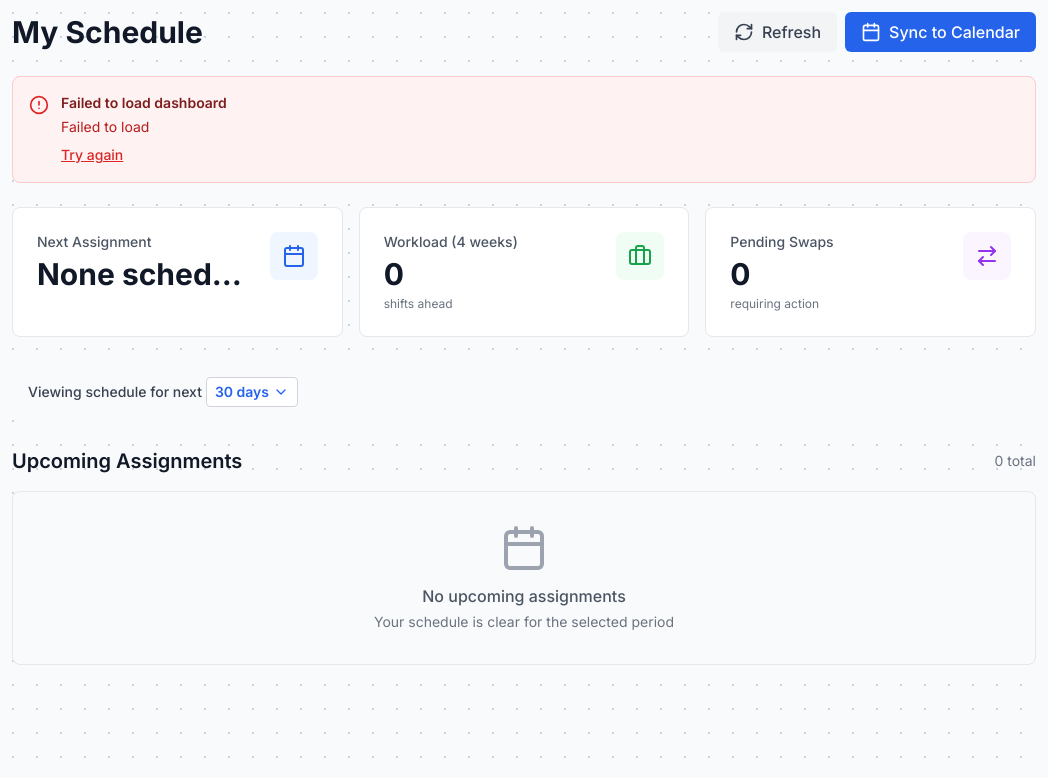
MyLifeDashboard › Error Handling › should retry fetch when try again is clicked
Expected: the heading "Failed to load dashboard" is shown, x1=61 y1=94 x2=227 y2=111
Click the button "Try again": (92, 155) x1=61 y1=145 x2=123 y2=165
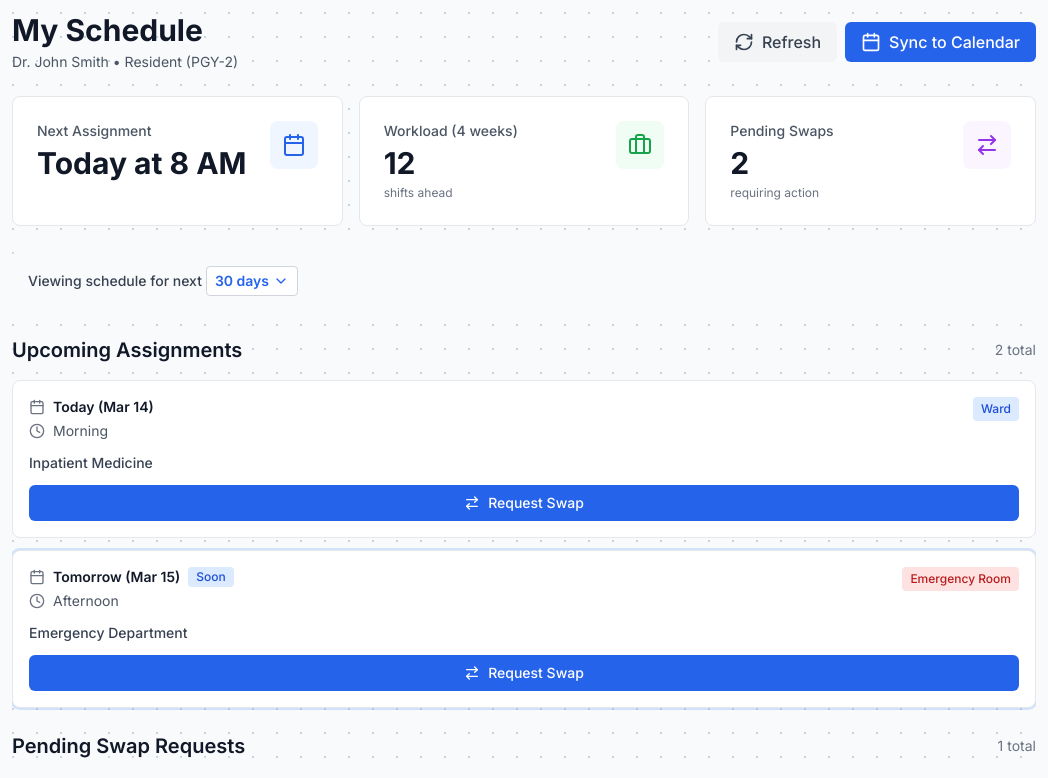
Expected: the heading "Failed to load dashboard" is gone
